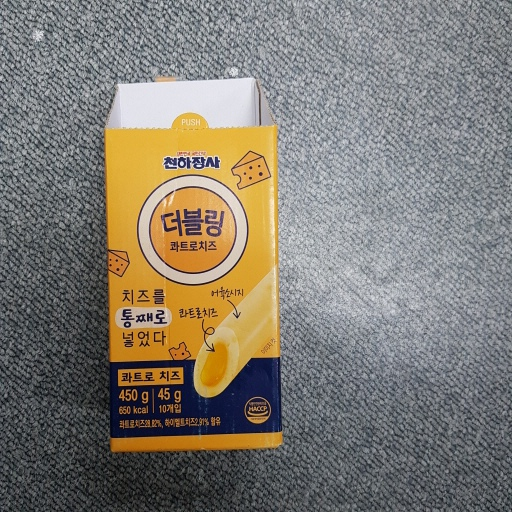Paper_0: (91, 73, 294, 465)
